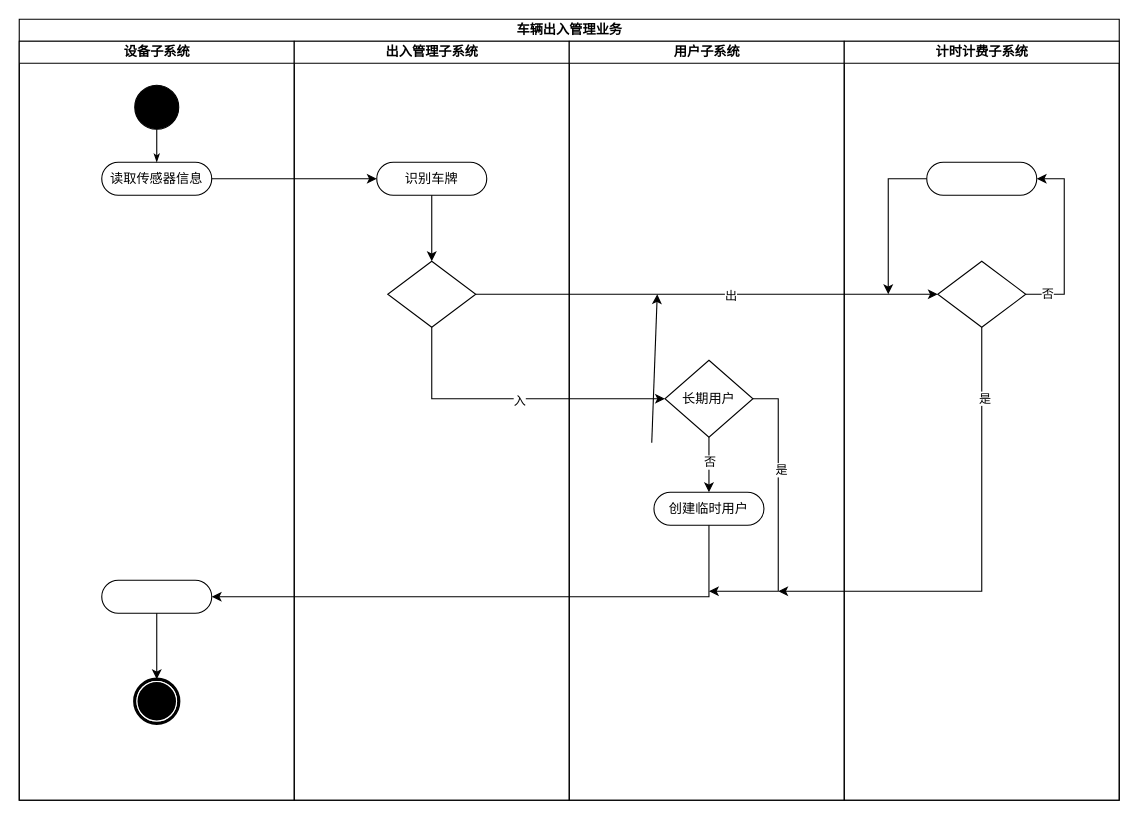
Some shapes in this 1139 by 820 pixel diagram are drawn without their labels. The shapes that lost their labels are listed below. From the top down, each one's centre as x and y in pixels, then its label:
At pixel 981 178: "等待".
At pixel 431 293: "出/入".
At pixel 981 293: "完成缴费".
At pixel 156 596: "开门".
